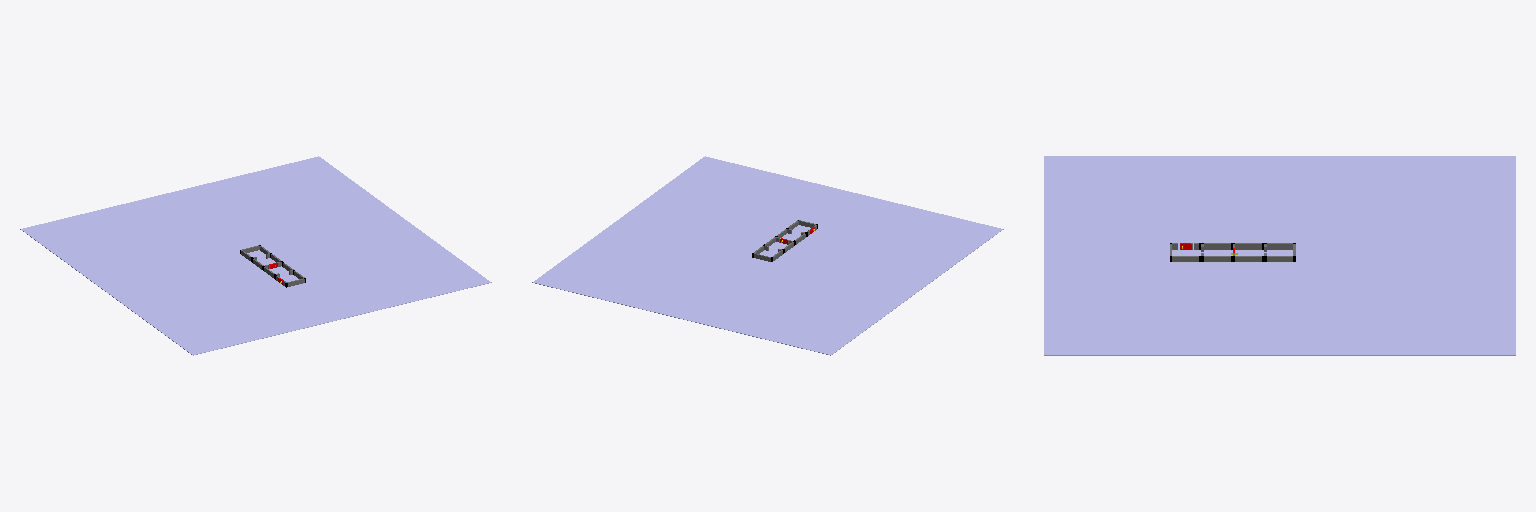
--- Facts derived from the render (not from the file) ---
3 views of the same robot in one strip: view 1: azimuth 30°, elevation 25°; view 2: azimuth 150°, elevation 25°; view 3: azimuth 270°, elevation 25° (orthographic).
Model rooms with 54 links and 53 joints (3 revolute, 4 prismatic, 46 fixed), rooted at base_link, posed all joints at 0.
Visible links, largest first — view 1: link_fixed_0_floor; view 2: link_fixed_0_floor; view 3: link_fixed_0_floor.
Boxes of the visible links, x1,y1,x2,y2 form: link_fixed_0_floor: [20, 156, 491, 355]; link_fixed_0_floor: [532, 156, 1003, 355]; link_fixed_0_floor: [1044, 156, 1515, 355].
Bounding box of the posed robot: 150 × 150 × 2.29 m (x, y, z).
Geometry: only primitive shapes (box / cylinder / sphere) drawn; not drawn: 3 mesh visuals (reference in a form the renderer does not follow).

robot.urdf — rooms:
<?xml version="1.0"?>
<!-- created with Phobos 1.0.1 "Capricious Choutengan" -->
  <robot name="rooms">

    <link name="base_link">
      <inertial>
        <origin xyz="0 0 0" rpy="0 0 0"/>
        <mass value="0.001"/>
        <inertia ixx="0.001" ixy="0" ixz="0" iyy="0.001" iyz="0" izz="0.001"/>
      </inertial>
    </link>

    <link name="goal">
      <inertial>
        <origin xyz="0 0 0" rpy="0 0 0"/>
        <mass value="0.001"/>
        <inertia ixx="0.001" ixy="0" ixz="0" iyy="0.001" iyz="0" izz="0.001"/>
      </inertial>
    </link>

    <link name="link_0_joint_0">
      <inertial>
        <origin xyz="0 0 0" rpy="0 0 0"/>
        <mass value="0.001"/>
        <inertia ixx="0.001" ixy="0" ixz="0" iyy="0.001" iyz="0" izz="0.001"/>
      </inertial>
      <visual name="visual_mesh_3_link_0">
        <origin xyz="0 0 0" rpy="0 0 0"/>
        <geometry>
          <mesh filename="file://[local-path]/ba/puzzle-generator/puzzles/rooms/meshes/stl/robot.stl" scale="1.0 1.0 1.0"/>
        </geometry>
        <material name="green"/>
      </visual>
      <collision name="collision_mesh_3_link_0">
        <origin xyz="0 0 0" rpy="0 0 0"/>
        <geometry>
          <mesh filename="file://[local-path]/ba/puzzle-generator/puzzles/rooms/meshes/stl/robot.001.stl" scale="1.0 1.0 1.0"/>
        </geometry>
      </collision>
    </link>

    <link name="link_0_joint_0.001">
      <inertial>
        <origin xyz="0 0 0" rpy="0 0 0"/>
        <mass value="0.001"/>
        <inertia ixx="0.001" ixy="0" ixz="0" iyy="0.001" iyz="0" izz="0.001"/>
      </inertial>
      <visual name="visual_mesh_3_link_0.001">
        <origin xyz="0 0 0" rpy="0 0 0"/>
        <geometry>
          <mesh filename="file://[local-path]/ba/puzzle-generator/puzzles/rooms/meshes/stl/robot.002.stl" scale="0.995 0.995 0.995"/>
        </geometry>
        <material name="green_translucent"/>
      </visual>
    </link>

    <link name="link_0_joint_1">
      <inertial>
        <origin xyz="0 0 0" rpy="0 0 0"/>
        <mass value="0.001"/>
        <inertia ixx="0.001" ixy="0" ixz="0" iyy="0.001" iyz="0" izz="0.001"/>
      </inertial>
    </link>

    <link name="link_0_joint_1.001">
      <inertial>
        <origin xyz="0 0 0" rpy="0 0 0"/>
        <mass value="0.001"/>
        <inertia ixx="0.001" ixy="0" ixz="0" iyy="0.001" iyz="0" izz="0.001"/>
      </inertial>
    </link>

    <link name="link_0_joint_2">
      <inertial>
        <origin xyz="0 0 0" rpy="0 0 0"/>
        <mass value="0.001"/>
        <inertia ixx="0.001" ixy="0" ixz="0" iyy="0.001" iyz="0" izz="0.001"/>
      </inertial>
    </link>

    <link name="link_1_joint_0">
      <inertial>
        <origin xyz="0 0 0" rpy="0 0 0"/>
        <mass value="0.001"/>
        <inertia ixx="0.001" ixy="0" ixz="0" iyy="0.001" iyz="0" izz="0.001"/>
      </inertial>
      <visual name="visual_cylinder_18_link_1">
        <origin xyz="0 0 0" rpy="0 0 0"/>
        <geometry>
          <cylinder radius="0.41" length="1.995"/>
        </geometry>
        <material name="gray"/>
      </visual>
      <collision name="collision_cylinder_18_link_1">
        <origin xyz="0 0 0" rpy="0 0 0"/>
        <geometry>
          <cylinder radius="0.41" length="1.995"/>
        </geometry>
      </collision>
    </link>

    <link name="link_2_joint_0">
      <inertial>
        <origin xyz="0 0 0" rpy="0 0 0"/>
        <mass value="0.001"/>
        <inertia ixx="0.001" ixy="0" ixz="0" iyy="0.001" iyz="0" izz="0.001"/>
      </inertial>
      <visual name="visual_cylinder_37_link_2">
        <origin xyz="0 0 0" rpy="0 0 0"/>
        <geometry>
          <cylinder radius="0.41" length="1.995"/>
        </geometry>
        <material name="gray"/>
      </visual>
      <collision name="collision_cylinder_37_link_2">
        <origin xyz="0 0 0" rpy="0 0 0"/>
        <geometry>
          <cylinder radius="0.41" length="1.995"/>
        </geometry>
      </collision>
    </link>

    <link name="link_3_joint_0">
      <inertial>
        <origin xyz="0 0 0" rpy="0 0 0"/>
        <mass value="0.001"/>
        <inertia ixx="0.001" ixy="0" ixz="0" iyy="0.001" iyz="0" izz="0.001"/>
      </inertial>
      <visual name="visual_mesh_44_link_3">
        <origin xyz="0 0 0" rpy="0 0 0"/>
        <geometry>
          <mesh filename="file://[local-path]/ba/puzzle-generator/puzzles/rooms/meshes/stl/door_obstacle.stl" scale="1.0 1.0 1.0"/>
        </geometry>
        <material name="brown"/>
      </visual>
      <collision name="collision_mesh_44_link_3">
        <origin xyz="0 0 0" rpy="0 0 0"/>
        <geometry>
          <mesh filename="file://[local-path]/ba/puzzle-generator/puzzles/rooms/meshes/stl/door_obstacle.001.stl" scale="1.0 1.0 1.0"/>
        </geometry>
      </collision>
    </link>

    <link name="link_3_joint_1">
      <inertial>
        <origin xyz="0 0 0" rpy="0 0 0"/>
        <mass value="0.001"/>
        <inertia ixx="0.001" ixy="0" ixz="0" iyy="0.001" iyz="0" izz="0.001"/>
      </inertial>
    </link>

    <link name="link_3_joint_2">
      <inertial>
        <origin xyz="0 0 0" rpy="0 0 0"/>
        <mass value="0.001"/>
        <inertia ixx="0.001" ixy="0" ixz="0" iyy="0.001" iyz="0" izz="0.001"/>
      </inertial>
    </link>

    <link name="link_fixed_0_floor">
      <inertial>
        <origin xyz="0 0 0" rpy="0 0 0"/>
        <mass value="0.001"/>
        <inertia ixx="0.001" ixy="0" ixz="0" iyy="0.001" iyz="0" izz="0.001"/>
      </inertial>
      <visual name="visual_box_fixed_0_floor">
        <origin xyz="0 0 0" rpy="0 0 0"/>
        <geometry>
          <box size="149.995 149.995 0.195"/>
        </geometry>
        <material name="lavender"/>
      </visual>
      <collision name="collision_box_fixed_0_floor">
        <origin xyz="0 0 0" rpy="0 0 0"/>
        <geometry>
          <box size="149.995 149.995 0.195"/>
        </geometry>
      </collision>
    </link>

    <link name="link_fixed_10_wall_(0.4625, 0.0)">
      <inertial>
        <origin xyz="0 0 0" rpy="0 0 0"/>
        <mass value="0.001"/>
        <inertia ixx="0.001" ixy="0" ixz="0" iyy="0.001" iyz="0" izz="0.001"/>
      </inertial>
      <visual name="visual_box_fixed_10_wall_(0.4625, 0.0)">
        <origin xyz="0 0 0" rpy="0 0 0"/>
        <geometry>
          <box size="0.745 8.495 1.995"/>
        </geometry>
        <material name="gray"/>
      </visual>
      <collision name="collision_box_fixed_10_wall_(0.4625, 0.0)">
        <origin xyz="0 0 0" rpy="0 0 0"/>
        <geometry>
          <box size="0.745 8.495 1.995"/>
        </geometry>
      </collision>
    </link>

    <link name="link_fixed_11_pillar_(-0.4625, 0.4625)">
      <inertial>
        <origin xyz="0 0 0" rpy="0 0 0"/>
        <mass value="0.001"/>
        <inertia ixx="0.001" ixy="0" ixz="0" iyy="0.001" iyz="0" izz="0.001"/>
      </inertial>
      <visual name="visual_box_fixed_11_pillar_(-0.4625, 0.4625)">
        <origin xyz="0 0 0" rpy="0 0 0"/>
        <geometry>
          <box size="0.745 0.745 1.995"/>
        </geometry>
        <material name="black"/>
      </visual>
      <collision name="collision_box_fixed_11_pillar_(-0.4625, 0.4625)">
        <origin xyz="0 0 0" rpy="0 0 0"/>
        <geometry>
          <box size="0.745 0.745 1.995"/>
        </geometry>
      </collision>
    </link>

    <link name="link_fixed_12_wall_(0.0, 0.4625)">
      <inertial>
        <origin xyz="0 0 0" rpy="0 0 0"/>
        <mass value="0.001"/>
        <inertia ixx="0.001" ixy="0" ixz="0" iyy="0.001" iyz="0" izz="0.001"/>
      </inertial>
      <visual name="visual_box_fixed_12_wall_(0.0, 0.4625)">
        <origin xyz="0 0 0" rpy="0 0 0"/>
        <geometry>
          <box size="8.495 0.745 1.995"/>
        </geometry>
        <material name="gray"/>
      </visual>
      <collision name="collision_box_fixed_12_wall_(0.0, 0.4625)">
        <origin xyz="0 0 0" rpy="0 0 0"/>
        <geometry>
          <box size="8.495 0.745 1.995"/>
        </geometry>
      </collision>
    </link>

    <link name="link_fixed_13_pillar_(-0.4625, -1.4625)">
      <inertial>
        <origin xyz="0 0 0" rpy="0 0 0"/>
        <mass value="0.001"/>
        <inertia ixx="0.001" ixy="0" ixz="0" iyy="0.001" iyz="0" izz="0.001"/>
      </inertial>
      <visual name="visual_box_fixed_13_pillar_(-0.4625, -1.4625)">
        <origin xyz="0 0 0" rpy="0 0 0"/>
        <geometry>
          <box size="0.745 0.745 1.995"/>
        </geometry>
        <material name="black"/>
      </visual>
      <collision name="collision_box_fixed_13_pillar_(-0.4625, -1.4625)">
        <origin xyz="0 0 0" rpy="0 0 0"/>
        <geometry>
          <box size="0.745 0.745 1.995"/>
        </geometry>
      </collision>
    </link>

    <link name="link_fixed_14_wall_(-0.4625, -1.0)">
      <inertial>
        <origin xyz="0 0 0" rpy="0 0 0"/>
        <mass value="0.001"/>
        <inertia ixx="0.001" ixy="0" ixz="0" iyy="0.001" iyz="0" izz="0.001"/>
      </inertial>
      <visual name="visual_box_fixed_14_wall_(-0.4625, -1.0)">
        <origin xyz="0 0 0" rpy="0 0 0"/>
        <geometry>
          <box size="0.745 8.495 1.995"/>
        </geometry>
        <material name="gray"/>
      </visual>
      <collision name="collision_box_fixed_14_wall_(-0.4625, -1.0)">
        <origin xyz="0 0 0" rpy="0 0 0"/>
        <geometry>
          <box size="0.745 8.495 1.995"/>
        </geometry>
      </collision>
    </link>

    <link name="link_fixed_15_pillar_(0.4625, -1.4625)">
      <inertial>
        <origin xyz="0 0 0" rpy="0 0 0"/>
        <mass value="0.001"/>
        <inertia ixx="0.001" ixy="0" ixz="0" iyy="0.001" iyz="0" izz="0.001"/>
      </inertial>
      <visual name="visual_box_fixed_15_pillar_(0.4625, -1.4625)">
        <origin xyz="0 0 0" rpy="0 0 0"/>
        <geometry>
          <box size="0.745 0.745 1.995"/>
        </geometry>
        <material name="black"/>
      </visual>
      <collision name="collision_box_fixed_15_pillar_(0.4625, -1.4625)">
        <origin xyz="0 0 0" rpy="0 0 0"/>
        <geometry>
          <box size="0.745 0.745 1.995"/>
        </geometry>
      </collision>
    </link>

    <link name="link_fixed_16_wall_(-0.3375, -1.4625)">
      <inertial>
        <origin xyz="0 0 0" rpy="0 0 0"/>
        <mass value="0.001"/>
        <inertia ixx="0.001" ixy="0" ixz="0" iyy="0.001" iyz="0" izz="0.001"/>
      </inertial>
      <visual name="visual_box_fixed_16_wall_(-0.3375, -1.4625)">
        <origin xyz="0 0 0" rpy="0 0 0"/>
        <geometry>
          <box size="1.745 0.745 1.995"/>
        </geometry>
        <material name="gray"/>
      </visual>
      <collision name="collision_box_fixed_16_wall_(-0.3375, -1.4625)">
        <origin xyz="0 0 0" rpy="0 0 0"/>
        <geometry>
          <box size="1.745 0.745 1.995"/>
        </geometry>
      </collision>
    </link>

    <link name="link_fixed_17_wall_(0.3375, -1.4625)">
      <inertial>
        <origin xyz="0 0 0" rpy="0 0 0"/>
        <mass value="0.001"/>
        <inertia ixx="0.001" ixy="0" ixz="0" iyy="0.001" iyz="0" izz="0.001"/>
      </inertial>
      <visual name="visual_box_fixed_17_wall_(0.3375, -1.4625)">
        <origin xyz="0 0 0" rpy="0 0 0"/>
        <geometry>
          <box size="1.745 0.745 1.995"/>
        </geometry>
        <material name="gray"/>
      </visual>
      <collision name="collision_box_fixed_17_wall_(0.3375, -1.4625)">
        <origin xyz="0 0 0" rpy="0 0 0"/>
        <geometry>
          <box size="1.745 0.745 1.995"/>
        </geometry>
      </collision>
    </link>

    <link name="link_fixed_19_hinge">
      <inertial>
        <origin xyz="0 0 0" rpy="0 0 0"/>
        <mass value="0.001"/>
        <inertia ixx="0.001" ixy="0" ixz="0" iyy="0.001" iyz="0" izz="0.001"/>
      </inertial>
      <visual name="visual_cylinder_fixed_19_hinge">
        <origin xyz="0 0 0" rpy="0 0 0"/>
        <geometry>
          <cylinder radius="0.10063" length="2.195"/>
        </geometry>
        <material name="gray"/>
      </visual>
    </link>

    <link name="link_fixed_20_door_panel">
      <inertial>
        <origin xyz="0 0 0" rpy="0 0 0"/>
        <mass value="0.001"/>
        <inertia ixx="0.001" ixy="0" ixz="0" iyy="0.001" iyz="0" izz="0.001"/>
      </inertial>
      <visual name="visual_box_fixed_20_door_panel">
        <origin xyz="0 0 0" rpy="0 0 0"/>
        <geometry>
          <box size="3.995 0.745 1.945"/>
        </geometry>
        <material name="red"/>
      </visual>
      <collision name="collision_box_fixed_20_door_panel">
        <origin xyz="0 0 0" rpy="0 0 0"/>
        <geometry>
          <box size="3.995 0.745 1.945"/>
        </geometry>
      </collision>
    </link>

    <link name="link_fixed_21_door_handle1">
      <inertial>
        <origin xyz="0 0 0" rpy="0 0 0"/>
        <mass value="0.001"/>
        <inertia ixx="0.001" ixy="0" ixz="0" iyy="0.001" iyz="0" izz="0.001"/>
      </inertial>
      <visual name="visual_box_fixed_21_door_handle1">
        <origin xyz="0 0 0" rpy="0 0 0"/>
        <geometry>
          <box size="0.1825 0.745 0.745"/>
        </geometry>
        <material name="yellow"/>
      </visual>
      <collision name="collision_box_fixed_21_door_handle1">
        <origin xyz="0 0 0" rpy="0 0 0"/>
        <geometry>
          <box size="0.1825 0.745 0.745"/>
        </geometry>
      </collision>
    </link>

    <link name="link_fixed_22_door_handle2">
      <inertial>
        <origin xyz="0 0 0" rpy="0 0 0"/>
        <mass value="0.001"/>
        <inertia ixx="0.001" ixy="0" ixz="0" iyy="0.001" iyz="0" izz="0.001"/>
      </inertial>
      <visual name="visual_box_fixed_22_door_handle2">
        <origin xyz="0 0 0" rpy="0 0 0"/>
        <geometry>
          <box size="0.1825 0.745 0.745"/>
        </geometry>
        <material name="yellow"/>
      </visual>
      <collision name="collision_box_fixed_22_door_handle2">
        <origin xyz="0 0 0" rpy="0 0 0"/>
        <geometry>
          <box size="0.1825 0.745 0.745"/>
        </geometry>
      </collision>
    </link>

    <link name="link_fixed_23_pillar_(0.4625, -0.5375)">
      <inertial>
        <origin xyz="0 0 0" rpy="0 0 0"/>
        <mass value="0.001"/>
        <inertia ixx="0.001" ixy="0" ixz="0" iyy="0.001" iyz="0" izz="0.001"/>
      </inertial>
      <visual name="visual_box_fixed_23_pillar_(0.4625, -0.5375)">
        <origin xyz="0 0 0" rpy="0 0 0"/>
        <geometry>
          <box size="0.745 0.745 1.995"/>
        </geometry>
        <material name="black"/>
      </visual>
      <collision name="collision_box_fixed_23_pillar_(0.4625, -0.5375)">
        <origin xyz="0 0 0" rpy="0 0 0"/>
        <geometry>
          <box size="0.745 0.745 1.995"/>
        </geometry>
      </collision>
    </link>

    <link name="link_fixed_24_wall_(0.4625, -1.0)">
      <inertial>
        <origin xyz="0 0 0" rpy="0 0 0"/>
        <mass value="0.001"/>
        <inertia ixx="0.001" ixy="0" ixz="0" iyy="0.001" iyz="0" izz="0.001"/>
      </inertial>
      <visual name="visual_box_fixed_24_wall_(0.4625, -1.0)">
        <origin xyz="0 0 0" rpy="0 0 0"/>
        <geometry>
          <box size="0.745 8.495 1.995"/>
        </geometry>
        <material name="gray"/>
      </visual>
      <collision name="collision_box_fixed_24_wall_(0.4625, -1.0)">
        <origin xyz="0 0 0" rpy="0 0 0"/>
        <geometry>
          <box size="0.745 8.495 1.995"/>
        </geometry>
      </collision>
    </link>

    <link name="link_fixed_25_pillar_(-0.4625, -0.5375)">
      <inertial>
        <origin xyz="0 0 0" rpy="0 0 0"/>
        <mass value="0.001"/>
        <inertia ixx="0.001" ixy="0" ixz="0" iyy="0.001" iyz="0" izz="0.001"/>
      </inertial>
      <visual name="visual_box_fixed_25_pillar_(-0.4625, -0.5375)">
        <origin xyz="0 0 0" rpy="0 0 0"/>
        <geometry>
          <box size="0.745 0.745 1.995"/>
        </geometry>
        <material name="black"/>
      </visual>
      <collision name="collision_box_fixed_25_pillar_(-0.4625, -0.5375)">
        <origin xyz="0 0 0" rpy="0 0 0"/>
        <geometry>
          <box size="0.745 0.745 1.995"/>
        </geometry>
      </collision>
    </link>

    <link name="link_fixed_26_pillar_(-0.4625, -2.4625)">
      <inertial>
        <origin xyz="0 0 0" rpy="0 0 0"/>
        <mass value="0.001"/>
        <inertia ixx="0.001" ixy="0" ixz="0" iyy="0.001" iyz="0" izz="0.001"/>
      </inertial>
      <visual name="visual_box_fixed_26_pillar_(-0.4625, -2.4625)">
        <origin xyz="0 0 0" rpy="0 0 0"/>
        <geometry>
          <box size="0.745 0.745 1.995"/>
        </geometry>
        <material name="black"/>
      </visual>
      <collision name="collision_box_fixed_26_pillar_(-0.4625, -2.4625)">
        <origin xyz="0 0 0" rpy="0 0 0"/>
        <geometry>
          <box size="0.745 0.745 1.995"/>
        </geometry>
      </collision>
    </link>

    <link name="link_fixed_27_wall_(-0.4625, -2.0)">
      <inertial>
        <origin xyz="0 0 0" rpy="0 0 0"/>
        <mass value="0.001"/>
        <inertia ixx="0.001" ixy="0" ixz="0" iyy="0.001" iyz="0" izz="0.001"/>
      </inertial>
      <visual name="visual_box_fixed_27_wall_(-0.4625, -2.0)">
        <origin xyz="0 0 0" rpy="0 0 0"/>
        <geometry>
          <box size="0.745 8.495 1.995"/>
        </geometry>
        <material name="gray"/>
      </visual>
      <collision name="collision_box_fixed_27_wall_(-0.4625, -2.0)">
        <origin xyz="0 0 0" rpy="0 0 0"/>
        <geometry>
          <box size="0.745 8.495 1.995"/>
        </geometry>
      </collision>
    </link>

    <link name="link_fixed_28_pillar_(0.4625, -2.4625)">
      <inertial>
        <origin xyz="0 0 0" rpy="0 0 0"/>
        <mass value="0.001"/>
        <inertia ixx="0.001" ixy="0" ixz="0" iyy="0.001" iyz="0" izz="0.001"/>
      </inertial>
      <visual name="visual_box_fixed_28_pillar_(0.4625, -2.4625)">
        <origin xyz="0 0 0" rpy="0 0 0"/>
        <geometry>
          <box size="0.745 0.745 1.995"/>
        </geometry>
        <material name="black"/>
      </visual>
      <collision name="collision_box_fixed_28_pillar_(0.4625, -2.4625)">
        <origin xyz="0 0 0" rpy="0 0 0"/>
        <geometry>
          <box size="0.745 0.745 1.995"/>
        </geometry>
      </collision>
    </link>

    <link name="link_fixed_29_wall_(-0.3375, -2.4625)">
      <inertial>
        <origin xyz="0 0 0" rpy="0 0 0"/>
        <mass value="0.001"/>
        <inertia ixx="0.001" ixy="0" ixz="0" iyy="0.001" iyz="0" izz="0.001"/>
      </inertial>
      <visual name="visual_box_fixed_29_wall_(-0.3375, -2.4625)">
        <origin xyz="0 0 0" rpy="0 0 0"/>
        <geometry>
          <box size="1.745 0.745 1.995"/>
        </geometry>
        <material name="gray"/>
      </visual>
      <collision name="collision_box_fixed_29_wall_(-0.3375, -2.4625)">
        <origin xyz="0 0 0" rpy="0 0 0"/>
        <geometry>
          <box size="1.745 0.745 1.995"/>
        </geometry>
      </collision>
    </link>

    <link name="link_fixed_30_wall_(0.3375, -2.4625)">
      <inertial>
        <origin xyz="0 0 0" rpy="0 0 0"/>
        <mass value="0.001"/>
        <inertia ixx="0.001" ixy="0" ixz="0" iyy="0.001" iyz="0" izz="0.001"/>
      </inertial>
      <visual name="visual_box_fixed_30_wall_(0.3375, -2.4625)">
        <origin xyz="0 0 0" rpy="0 0 0"/>
        <geometry>
          <box size="1.745 0.745 1.995"/>
        </geometry>
        <material name="gray"/>
      </visual>
      <collision name="collision_box_fixed_30_wall_(0.3375, -2.4625)">
        <origin xyz="0 0 0" rpy="0 0 0"/>
        <geometry>
          <box size="1.745 0.745 1.995"/>
        </geometry>
      </collision>
    </link>

    <link name="link_fixed_31_pillar_(0.4625, -1.5375)">
      <inertial>
        <origin xyz="0 0 0" rpy="0 0 0"/>
        <mass value="0.001"/>
        <inertia ixx="0.001" ixy="0" ixz="0" iyy="0.001" iyz="0" izz="0.001"/>
      </inertial>
      <visual name="visual_box_fixed_31_pillar_(0.4625, -1.5375)">
        <origin xyz="0 0 0" rpy="0 0 0"/>
        <geometry>
          <box size="0.745 0.745 1.995"/>
        </geometry>
        <material name="black"/>
      </visual>
      <collision name="collision_box_fixed_31_pillar_(0.4625, -1.5375)">
        <origin xyz="0 0 0" rpy="0 0 0"/>
        <geometry>
          <box size="0.745 0.745 1.995"/>
        </geometry>
      </collision>
    </link>

    <link name="link_fixed_32_wall_(0.4625, -2.0)">
      <inertial>
        <origin xyz="0 0 0" rpy="0 0 0"/>
        <mass value="0.001"/>
        <inertia ixx="0.001" ixy="0" ixz="0" iyy="0.001" iyz="0" izz="0.001"/>
      </inertial>
      <visual name="visual_box_fixed_32_wall_(0.4625, -2.0)">
        <origin xyz="0 0 0" rpy="0 0 0"/>
        <geometry>
          <box size="0.745 8.495 1.995"/>
        </geometry>
        <material name="gray"/>
      </visual>
      <collision name="collision_box_fixed_32_wall_(0.4625, -2.0)">
        <origin xyz="0 0 0" rpy="0 0 0"/>
        <geometry>
          <box size="0.745 8.495 1.995"/>
        </geometry>
      </collision>
    </link>

    <link name="link_fixed_33_pillar_(-0.4625, -1.5375)">
      <inertial>
        <origin xyz="0 0 0" rpy="0 0 0"/>
        <mass value="0.001"/>
        <inertia ixx="0.001" ixy="0" ixz="0" iyy="0.001" iyz="0" izz="0.001"/>
      </inertial>
      <visual name="visual_box_fixed_33_pillar_(-0.4625, -1.5375)">
        <origin xyz="0 0 0" rpy="0 0 0"/>
        <geometry>
          <box size="0.745 0.745 1.995"/>
        </geometry>
        <material name="black"/>
      </visual>
      <collision name="collision_box_fixed_33_pillar_(-0.4625, -1.5375)">
        <origin xyz="0 0 0" rpy="0 0 0"/>
        <geometry>
          <box size="0.745 0.745 1.995"/>
        </geometry>
      </collision>
    </link>

    <link name="link_fixed_34_pillar_(-0.4625, -3.4625)">
      <inertial>
        <origin xyz="0 0 0" rpy="0 0 0"/>
        <mass value="0.001"/>
        <inertia ixx="0.001" ixy="0" ixz="0" iyy="0.001" iyz="0" izz="0.001"/>
      </inertial>
      <visual name="visual_box_fixed_34_pillar_(-0.4625, -3.4625)">
        <origin xyz="0 0 0" rpy="0 0 0"/>
        <geometry>
          <box size="0.745 0.745 1.995"/>
        </geometry>
        <material name="black"/>
      </visual>
      <collision name="collision_box_fixed_34_pillar_(-0.4625, -3.4625)">
        <origin xyz="0 0 0" rpy="0 0 0"/>
        <geometry>
          <box size="0.745 0.745 1.995"/>
        </geometry>
      </collision>
    </link>

    <link name="link_fixed_35_wall_(-0.4625, -3.3375)">
      <inertial>
        <origin xyz="0 0 0" rpy="0 0 0"/>
        <mass value="0.001"/>
        <inertia ixx="0.001" ixy="0" ixz="0" iyy="0.001" iyz="0" izz="0.001"/>
      </inertial>
      <visual name="visual_box_fixed_35_wall_(-0.4625, -3.3375)">
        <origin xyz="0 0 0" rpy="0 0 0"/>
        <geometry>
          <box size="0.745 1.745 1.995"/>
        </geometry>
        <material name="gray"/>
      </visual>
      <collision name="collision_box_fixed_35_wall_(-0.4625, -3.3375)">
        <origin xyz="0 0 0" rpy="0 0 0"/>
        <geometry>
          <box size="0.745 1.745 1.995"/>
        </geometry>
      </collision>
    </link>

    <link name="link_fixed_36_wall_(-0.4625, -2.6625)">
      <inertial>
        <origin xyz="0 0 0" rpy="0 0 0"/>
        <mass value="0.001"/>
        <inertia ixx="0.001" ixy="0" ixz="0" iyy="0.001" iyz="0" izz="0.001"/>
      </inertial>
      <visual name="visual_box_fixed_36_wall_(-0.4625, -2.6625)">
        <origin xyz="0 0 0" rpy="0 0 0"/>
        <geometry>
          <box size="0.745 1.745 1.995"/>
        </geometry>
        <material name="gray"/>
      </visual>
      <collision name="collision_box_fixed_36_wall_(-0.4625, -2.6625)">
        <origin xyz="0 0 0" rpy="0 0 0"/>
        <geometry>
          <box size="0.745 1.745 1.995"/>
        </geometry>
      </collision>
    </link>

    <link name="link_fixed_38_hinge">
      <inertial>
        <origin xyz="0 0 0" rpy="0 0 0"/>
        <mass value="0.001"/>
        <inertia ixx="0.001" ixy="0" ixz="0" iyy="0.001" iyz="0" izz="0.001"/>
      </inertial>
      <visual name="visual_cylinder_fixed_38_hinge">
        <origin xyz="0 0 0" rpy="0 0 0"/>
        <geometry>
          <cylinder radius="0.10063" length="2.195"/>
        </geometry>
        <material name="gray"/>
      </visual>
    </link>

    <link name="link_fixed_39_door_panel">
      <inertial>
        <origin xyz="0 0 0" rpy="0 0 0"/>
        <mass value="0.001"/>
        <inertia ixx="0.001" ixy="0" ixz="0" iyy="0.001" iyz="0" izz="0.001"/>
      </inertial>
      <visual name="visual_box_fixed_39_door_panel">
        <origin xyz="0 0 0" rpy="0 0 0"/>
        <geometry>
          <box size="3.995 0.745 1.945"/>
        </geometry>
        <material name="red"/>
      </visual>
      <collision name="collision_box_fixed_39_door_panel">
        <origin xyz="0 0 0" rpy="0 0 0"/>
        <geometry>
          <box size="3.995 0.745 1.945"/>
        </geometry>
      </collision>
    </link>

    <link name="link_fixed_40_door_handle1">
      <inertial>
        <origin xyz="0 0 0" rpy="0 0 0"/>
        <mass value="0.001"/>
        <inertia ixx="0.001" ixy="0" ixz="0" iyy="0.001" iyz="0" izz="0.001"/>
      </inertial>
      <visual name="visual_box_fixed_40_door_handle1">
        <origin xyz="0 0 0" rpy="0 0 0"/>
        <geometry>
          <box size="0.1825 0.745 0.745"/>
        </geometry>
        <material name="yellow"/>
      </visual>
      <collision name="collision_box_fixed_40_door_handle1">
        <origin xyz="0 0 0" rpy="0 0 0"/>
        <geometry>
          <box size="0.1825 0.745 0.745"/>
        </geometry>
      </collision>
    </link>

    <link name="link_fixed_41_door_handle2">
      <inertial>
        <origin xyz="0 0 0" rpy="0 0 0"/>
        <mass value="0.001"/>
        <inertia ixx="0.001" ixy="0" ixz="0" iyy="0.001" iyz="0" izz="0.001"/>
      </inertial>
      <visual name="visual_box_fixed_41_door_handle2">
        <origin xyz="0 0 0" rpy="0 0 0"/>
        <geometry>
          <box size="0.1825 0.745 0.745"/>
        </geometry>
        <material name="yellow"/>
      </visual>
      <collision name="collision_box_fixed_41_door_handle2">
        <origin xyz="0 0 0" rpy="0 0 0"/>
        <geometry>
          <box size="0.1825 0.745 0.745"/>
        </geometry>
      </collision>
    </link>

    <link name="link_fixed_45_pillar_(0.4625, -3.4625)">
      <inertial>
        <origin xyz="0 0 0" rpy="0 0 0"/>
        <mass value="0.001"/>
        <inertia ixx="0.001" ixy="0" ixz="0" iyy="0.001" iyz="0" izz="0.001"/>
      </inertial>
      <visual name="visual_box_fixed_45_pillar_(0.4625, -3.4625)">
        <origin xyz="0 0 0" rpy="0 0 0"/>
        <geometry>
          <box size="0.745 0.745 1.995"/>
        </geometry>
        <material name="black"/>
      </visual>
      <collision name="collision_box_fixed_45_pillar_(0.4625, -3.4625)">
        <origin xyz="0 0 0" rpy="0 0 0"/>
        <geometry>
          <box size="0.745 0.745 1.995"/>
        </geometry>
      </collision>
    </link>

    <link name="link_fixed_46_wall_(0.0, -3.4625)">
      <inertial>
        <origin xyz="0 0 0" rpy="0 0 0"/>
        <mass value="0.001"/>
        <inertia ixx="0.001" ixy="0" ixz="0" iyy="0.001" iyz="0" izz="0.001"/>
      </inertial>
      <visual name="visual_box_fixed_46_wall_(0.0, -3.4625)">
        <origin xyz="0 0 0" rpy="0 0 0"/>
        <geometry>
          <box size="8.495 0.745 1.995"/>
        </geometry>
        <material name="gray"/>
      </visual>
      <collision name="collision_box_fixed_46_wall_(0.0, -3.4625)">
        <origin xyz="0 0 0" rpy="0 0 0"/>
        <geometry>
          <box size="8.495 0.745 1.995"/>
        </geometry>
      </collision>
    </link>

    <link name="link_fixed_47_pillar_(0.4625, -2.5375)">
      <inertial>
        <origin xyz="0 0 0" rpy="0 0 0"/>
        <mass value="0.001"/>
        <inertia ixx="0.001" ixy="0" ixz="0" iyy="0.001" iyz="0" izz="0.001"/>
      </inertial>
      <visual name="visual_box_fixed_47_pillar_(0.4625, -2.5375)">
        <origin xyz="0 0 0" rpy="0 0 0"/>
        <geometry>
          <box size="0.745 0.745 1.995"/>
        </geometry>
        <material name="black"/>
      </visual>
      <collision name="collision_box_fixed_47_pillar_(0.4625, -2.5375)">
        <origin xyz="0 0 0" rpy="0 0 0"/>
        <geometry>
          <box size="0.745 0.745 1.995"/>
        </geometry>
      </collision>
    </link>

    <link name="link_fixed_48_wall_(0.4625, -3.0)">
      <inertial>
        <origin xyz="0 0 0" rpy="0 0 0"/>
        <mass value="0.001"/>
        <inertia ixx="0.001" ixy="0" ixz="0" iyy="0.001" iyz="0" izz="0.001"/>
      </inertial>
      <visual name="visual_box_fixed_48_wall_(0.4625, -3.0)">
        <origin xyz="0 0 0" rpy="0 0 0"/>
        <geometry>
          <box size="0.745 8.495 1.995"/>
        </geometry>
        <material name="gray"/>
      </visual>
      <collision name="collision_box_fixed_48_wall_(0.4625, -3.0)">
        <origin xyz="0 0 0" rpy="0 0 0"/>
        <geometry>
          <box size="0.745 8.495 1.995"/>
        </geometry>
      </collision>
    </link>

    <link name="link_fixed_49_pillar_(-0.4625, -2.5375)">
      <inertial>
        <origin xyz="0 0 0" rpy="0 0 0"/>
        <mass value="0.001"/>
        <inertia ixx="0.001" ixy="0" ixz="0" iyy="0.001" iyz="0" izz="0.001"/>
      </inertial>
      <visual name="visual_box_fixed_49_pillar_(-0.4625, -2.5375)">
        <origin xyz="0 0 0" rpy="0 0 0"/>
        <geometry>
          <box size="0.745 0.745 1.995"/>
        </geometry>
        <material name="black"/>
      </visual>
      <collision name="collision_box_fixed_49_pillar_(-0.4625, -2.5375)">
        <origin xyz="0 0 0" rpy="0 0 0"/>
        <geometry>
          <box size="0.745 0.745 1.995"/>
        </geometry>
      </collision>
    </link>

    <link name="link_fixed_4_pillar_(-0.4625, -0.4625)">
      <inertial>
        <origin xyz="0 0 0" rpy="0 0 0"/>
        <mass value="0.001"/>
        <inertia ixx="0.001" ixy="0" ixz="0" iyy="0.001" iyz="0" izz="0.001"/>
      </inertial>
      <visual name="visual_box_fixed_4_pillar_(-0.4625, -0.4625)">
        <origin xyz="0 0 0" rpy="0 0 0"/>
        <geometry>
          <box size="0.745 0.745 1.995"/>
        </geometry>
        <material name="black"/>
      </visual>
      <collision name="collision_box_fixed_4_pillar_(-0.4625, -0.4625)">
        <origin xyz="0 0 0" rpy="0 0 0"/>
        <geometry>
          <box size="0.745 0.745 1.995"/>
        </geometry>
      </collision>
    </link>

    <link name="link_fixed_5_wall_(-0.4625, 0.0)">
      <inertial>
        <origin xyz="0 0 0" rpy="0 0 0"/>
        <mass value="0.001"/>
        <inertia ixx="0.001" ixy="0" ixz="0" iyy="0.001" iyz="0" izz="0.001"/>
      </inertial>
      <visual name="visual_box_fixed_5_wall_(-0.4625, 0.0)">
        <origin xyz="0 0 0" rpy="0 0 0"/>
        <geometry>
          <box size="0.745 8.495 1.995"/>
        </geometry>
        <material name="gray"/>
      </visual>
      <collision name="collision_box_fixed_5_wall_(-0.4625, 0.0)">
        <origin xyz="0 0 0" rpy="0 0 0"/>
        <geometry>
          <box size="0.745 8.495 1.995"/>
        </geometry>
      </collision>
    </link>

    <link name="link_fixed_6_pillar_(0.4625, -0.4625)">
      <inertial>
        <origin xyz="0 0 0" rpy="0 0 0"/>
        <mass value="0.001"/>
        <inertia ixx="0.001" ixy="0" ixz="0" iyy="0.001" iyz="0" izz="0.001"/>
      </inertial>
      <visual name="visual_box_fixed_6_pillar_(0.4625, -0.4625)">
        <origin xyz="0 0 0" rpy="0 0 0"/>
        <geometry>
          <box size="0.745 0.745 1.995"/>
        </geometry>
        <material name="black"/>
      </visual>
      <collision name="collision_box_fixed_6_pillar_(0.4625, -0.4625)">
        <origin xyz="0 0 0" rpy="0 0 0"/>
        <geometry>
          <box size="0.745 0.745 1.995"/>
        </geometry>
      </collision>
    </link>

    <link name="link_fixed_7_wall_(-0.3375, -0.4625)">
      <inertial>
        <origin xyz="0 0 0" rpy="0 0 0"/>
        <mass value="0.001"/>
        <inertia ixx="0.001" ixy="0" ixz="0" iyy="0.001" iyz="0" izz="0.001"/>
      </inertial>
      <visual name="visual_box_fixed_7_wall_(-0.3375, -0.4625)">
        <origin xyz="0 0 0" rpy="0 0 0"/>
        <geometry>
          <box size="1.745 0.745 1.995"/>
        </geometry>
        <material name="gray"/>
      </visual>
      <collision name="collision_box_fixed_7_wall_(-0.3375, -0.4625)">
        <origin xyz="0 0 0" rpy="0 0 0"/>
        <geometry>
          <box size="1.745 0.745 1.995"/>
        </geometry>
      </collision>
    </link>

    <link name="link_fixed_8_wall_(0.3375, -0.4625)">
      <inertial>
        <origin xyz="0 0 0" rpy="0 0 0"/>
        <mass value="0.001"/>
        <inertia ixx="0.001" ixy="0" ixz="0" iyy="0.001" iyz="0" izz="0.001"/>
      </inertial>
      <visual name="visual_box_fixed_8_wall_(0.3375, -0.4625)">
        <origin xyz="0 0 0" rpy="0 0 0"/>
        <geometry>
          <box size="1.745 0.745 1.995"/>
        </geometry>
        <material name="gray"/>
      </visual>
      <collision name="collision_box_fixed_8_wall_(0.3375, -0.4625)">
        <origin xyz="0 0 0" rpy="0 0 0"/>
        <geometry>
          <box size="1.745 0.745 1.995"/>
        </geometry>
      </collision>
    </link>

    <link name="link_fixed_9_pillar_(0.4625, 0.4625)">
      <inertial>
        <origin xyz="0 0 0" rpy="0 0 0"/>
        <mass value="0.001"/>
        <inertia ixx="0.001" ixy="0" ixz="0" iyy="0.001" iyz="0" izz="0.001"/>
      </inertial>
      <visual name="visual_box_fixed_9_pillar_(0.4625, 0.4625)">
        <origin xyz="0 0 0" rpy="0 0 0"/>
        <geometry>
          <box size="0.745 0.745 1.995"/>
        </geometry>
        <material name="black"/>
      </visual>
      <collision name="collision_box_fixed_9_pillar_(0.4625, 0.4625)">
        <origin xyz="0 0 0" rpy="0 0 0"/>
        <geometry>
          <box size="0.745 0.745 1.995"/>
        </geometry>
      </collision>
    </link>

    <joint name="goal" type="fixed">
      <origin xyz="-10.0 -30.0 0.625" rpy="0 0 0"/>
      <parent link="base_link"/>
      <child link="goal"/>
      <limit effort="0" velocity="0"/>
    </joint>

    <joint name="link_0_joint_0" type="fixed">
      <origin xyz="0 0 0" rpy="0 0 0"/>
      <parent link="link_0_joint_1"/>
      <child link="link_0_joint_0"/>
      <limit effort="0" velocity="0"/>
    </joint>

    <joint name="link_0_joint_0.001" type="fixed">
      <origin xyz="0 0 0" rpy="0 0 0"/>
      <parent link="link_0_joint_1.001"/>
      <child link="link_0_joint_0.001"/>
      <limit effort="0" velocity="0"/>
    </joint>

    <joint name="link_0_joint_1" type="prismatic">
      <origin xyz="0 0 0" rpy="0 0 0"/>
      <parent link="link_0_joint_2"/>
      <child link="link_0_joint_1"/>
      <axis xyz="0 1.0 0"/>
      <limit lower="-35.0" upper="5.0" effort="0" velocity="0"/>
    </joint>

    <joint name="link_0_joint_1.001" type="fixed">
      <origin xyz="0 0 0" rpy="0 0 0"/>
      <parent link="goal"/>
      <child link="link_0_joint_1.001"/>
      <limit effort="0" velocity="0"/>
    </joint>

    <joint name="link_0_joint_2" type="prismatic">
      <origin xyz="0 0 0.625" rpy="0 0 0"/>
      <parent link="base_link"/>
      <child link="link_0_joint_2"/>
      <axis xyz="1.0 0 0"/>
      <limit lower="-15.0" upper="5.0" effort="0" velocity="0"/>
    </joint>

    <joint name="link_1_joint_0" type="revolute">
      <origin xyz="-2.0 -14.625 1.0" rpy="0 0 0"/>
      <parent link="base_link"/>
      <child link="link_1_joint_0"/>
      <axis xyz="0 0 1.0"/>
      <limit lower="0" upper="1.5708" effort="0" velocity="0"/>
    </joint>

    <joint name="link_2_joint_0" type="revolute">
      <origin xyz="-4.625 -28.0 1.0" rpy="0 0 -1.5708"/>
      <parent link="base_link"/>
      <child link="link_2_joint_0"/>
      <axis xyz="0 0 1.0"/>
      <limit lower="0" upper="1.5708" effort="0" velocity="0"/>
    </joint>

    <joint name="link_3_joint_0" type="revolute">
      <origin xyz="0 0 0" rpy="0 0 1.5708"/>
      <parent link="link_3_joint_1"/>
      <child link="link_3_joint_0"/>
      <axis xyz="0 0 1.0"/>
      <limit lower="-3.14159" upper="3.14159" effort="0" velocity="0"/>
    </joint>

    <joint name="link_3_joint_1" type="prismatic">
      <origin xyz="0 0 0" rpy="0 0 0"/>
      <parent link="link_3_joint_2"/>
      <child link="link_3_joint_1"/>
      <axis xyz="0 1.0 0"/>
      <limit lower="-10.0" upper="10.0" effort="0" velocity="0"/>
    </joint>

    <joint name="link_3_joint_2" type="prismatic">
      <origin xyz="-2.5 -30.0 0.75" rpy="0 0 0"/>
      <parent link="base_link"/>
      <child link="link_3_joint_2"/>
      <axis xyz="1.0 0 0"/>
      <limit lower="-10.0" upper="10.0" effort="0" velocity="0"/>
    </joint>

    <joint name="link_fixed_0_floor" type="fixed">
      <origin xyz="0 0 -0.1" rpy="0 0 0"/>
      <parent link="base_link"/>
      <child link="link_fixed_0_floor"/>
    </joint>

    <joint name="link_fixed_10_wall_(0.4625, 0.0)" type="fixed">
      <origin xyz="4.625 0 1.0" rpy="0 0 0"/>
      <parent link="base_link"/>
      <child link="link_fixed_10_wall_(0.4625, 0.0)"/>
    </joint>

    <joint name="link_fixed_11_pillar_(-0.4625, 0.4625)" type="fixed">
      <origin xyz="-4.625 4.625 1.0" rpy="0 0 0"/>
      <parent link="base_link"/>
      <child link="link_fixed_11_pillar_(-0.4625, 0.4625)"/>
    </joint>

    <joint name="link_fixed_12_wall_(0.0, 0.4625)" type="fixed">
      <origin xyz="0 4.625 1.0" rpy="0 0 0"/>
      <parent link="base_link"/>
      <child link="link_fixed_12_wall_(0.0, 0.4625)"/>
    </joint>

    <joint name="link_fixed_13_pillar_(-0.4625, -1.4625)" type="fixed">
      <origin xyz="-4.625 -14.625 1.0" rpy="0 0 0"/>
      <parent link="base_link"/>
      <child link="link_fixed_13_pillar_(-0.4625, -1.4625)"/>
    </joint>

    <joint name="link_fixed_14_wall_(-0.4625, -1.0)" type="fixed">
      <origin xyz="-4.625 -10.0 1.0" rpy="0 0 0"/>
      <parent link="base_link"/>
      <child link="link_fixed_14_wall_(-0.4625, -1.0)"/>
    </joint>

    <joint name="link_fixed_15_pillar_(0.4625, -1.4625)" type="fixed">
      <origin xyz="4.625 -14.625 1.0" rpy="0 0 0"/>
      <parent link="base_link"/>
      <child link="link_fixed_15_pillar_(0.4625, -1.4625)"/>
    </joint>

    <joint name="link_fixed_16_wall_(-0.3375, -1.4625)" type="fixed">
      <origin xyz="-3.375 -14.625 1.0" rpy="0 0 0"/>
      <parent link="base_link"/>
      <child link="link_fixed_16_wall_(-0.3375, -1.4625)"/>
    </joint>

    <joint name="link_fixed_17_wall_(0.3375, -1.4625)" type="fixed">
      <origin xyz="3.375 -14.625 1.0" rpy="0 0 0"/>
      <parent link="base_link"/>
      <child link="link_fixed_17_wall_(0.3375, -1.4625)"/>
    </joint>

    <joint name="link_fixed_19_hinge" type="fixed">
      <origin xyz="0 0 0" rpy="0 0 0"/>
      <parent link="link_1_joint_0"/>
      <child link="link_fixed_19_hinge"/>
    </joint>

    <joint name="link_fixed_20_door_panel" type="fixed">
      <origin xyz="2.0 0 0" rpy="0 0 0"/>
      <parent link="link_1_joint_0"/>
      <child link="link_fixed_20_door_panel"/>
    </joint>

    <joint name="link_fixed_21_door_handle1" type="fixed">
      <origin xyz="3.0 0.75 0" rpy="0 0 0"/>
      <parent link="link_1_joint_0"/>
      <child link="link_fixed_21_door_handle1"/>
    </joint>

    <joint name="link_fixed_22_door_handle2" type="fixed">
      <origin xyz="3.0 -0.75 0" rpy="0 0 0"/>
      <parent link="link_1_joint_0"/>
      <child link="link_fixed_22_door_handle2"/>
    </joint>

    <joint name="link_fixed_23_pillar_(0.4625, -0.5375)" type="fixed">
      <origin xyz="4.625 -5.375 1.0" rpy="0 0 0"/>
      <parent link="base_link"/>
      <child link="link_fixed_23_pillar_(0.4625, -0.5375)"/>
    </joint>

    <joint name="link_fixed_24_wall_(0.4625, -1.0)" type="fixed">
      <origin xyz="4.625 -10.0 1.0" rpy="0 0 0"/>
      <parent link="base_link"/>
      <child link="link_fixed_24_wall_(0.4625, -1.0)"/>
    </joint>

    <joint name="link_fixed_25_pillar_(-0.4625, -0.5375)" type="fixed">
      <origin xyz="-4.625 -5.375 1.0" rpy="0 0 0"/>
      <parent link="base_link"/>
      <child link="link_fixed_25_pillar_(-0.4625, -0.5375)"/>
    </joint>

    <joint name="link_fixed_26_pillar_(-0.4625, -2.4625)" type="fixed">
      <origin xyz="-4.625 -24.625 1.0" rpy="0 0 0"/>
      <parent link="base_link"/>
      <child link="link_fixed_26_pillar_(-0.4625, -2.4625)"/>
    </joint>

    <joint name="link_fixed_27_wall_(-0.4625, -2.0)" type="fixed">
      <origin xyz="-4.625 -20.0 1.0" rpy="0 0 0"/>
      <parent link="base_link"/>
      <child link="link_fixed_27_wall_(-0.4625, -2.0)"/>
    </joint>

    <joint name="link_fixed_28_pillar_(0.4625, -2.4625)" type="fixed">
      <origin xyz="4.625 -24.625 1.0" rpy="0 0 0"/>
      <parent link="base_link"/>
      <child link="link_fixed_28_pillar_(0.4625, -2.4625)"/>
    </joint>

    <joint name="link_fixed_29_wall_(-0.3375, -2.4625)" type="fixed">
      <origin xyz="-3.375 -24.625 1.0" rpy="0 0 0"/>
      <parent link="base_link"/>
      <child link="link_fixed_29_wall_(-0.3375, -2.4625)"/>
    </joint>

    <joint name="link_fixed_30_wall_(0.3375, -2.4625)" type="fixed">
      <origin xyz="3.375 -24.625 1.0" rpy="0 0 0"/>
      <parent link="base_link"/>
      <child link="link_fixed_30_wall_(0.3375, -2.4625)"/>
    </joint>

    <joint name="link_fixed_31_pillar_(0.4625, -1.5375)" type="fixed">
      <origin xyz="4.625 -15.375 1.0" rpy="0 0 0"/>
      <parent link="base_link"/>
      <child link="link_fixed_31_pillar_(0.4625, -1.5375)"/>
    </joint>

    <joint name="link_fixed_32_wall_(0.4625, -2.0)" type="fixed">
      <origin xyz="4.625 -20.0 1.0" rpy="0 0 0"/>
      <parent link="base_link"/>
      <child link="link_fixed_32_wall_(0.4625, -2.0)"/>
    </joint>

    <joint name="link_fixed_33_pillar_(-0.4625, -1.5375)" type="fixed">
      <origin xyz="-4.625 -15.375 1.0" rpy="0 0 0"/>
      <parent link="base_link"/>
      <child link="link_fixed_33_pillar_(-0.4625, -1.5375)"/>
    </joint>

    <joint name="link_fixed_34_pillar_(-0.4625, -3.4625)" type="fixed">
      <origin xyz="-4.625 -34.625 1.0" rpy="0 0 0"/>
      <parent link="base_link"/>
      <child link="link_fixed_34_pillar_(-0.4625, -3.4625)"/>
    </joint>

    <joint name="link_fixed_35_wall_(-0.4625, -3.3375)" type="fixed">
      <origin xyz="-4.625 -33.375 1.0" rpy="0 0 0"/>
      <parent link="base_link"/>
      <child link="link_fixed_35_wall_(-0.4625, -3.3375)"/>
    </joint>

    <joint name="link_fixed_36_wall_(-0.4625, -2.6625)" type="fixed">
      <origin xyz="-4.625 -26.625 1.0" rpy="0 0 0"/>
      <parent link="base_link"/>
      <child link="link_fixed_36_wall_(-0.4625, -2.6625)"/>
    </joint>

    <joint name="link_fixed_38_hinge" type="fixed">
      <origin xyz="0 0 0" rpy="0 0 0"/>
      <parent link="link_2_joint_0"/>
      <child link="link_fixed_38_hinge"/>
    </joint>

    <joint name="link_fixed_39_door_panel" type="fixed">
      <origin xyz="2.0 0 0" rpy="0 0 0"/>
      <parent link="link_2_joint_0"/>
      <child link="link_fixed_39_door_panel"/>
    </joint>

    <joint name="link_fixed_40_door_handle1" type="fixed">
      <origin xyz="3.0 0.75 0" rpy="0 0 0"/>
      <parent link="link_2_joint_0"/>
      <child link="link_fixed_40_door_handle1"/>
    </joint>

    <joint name="link_fixed_41_door_handle2" type="fixed">
      <origin xyz="3.0 -0.75 0" rpy="0 0 0"/>
      <parent link="link_2_joint_0"/>
      <child link="link_fixed_41_door_handle2"/>
    </joint>

    <joint name="link_fixed_45_pillar_(0.4625, -3.4625)" type="fixed">
      <origin xyz="4.625 -34.625 1.0" rpy="0 0 0"/>
      <parent link="base_link"/>
      <child link="link_fixed_45_pillar_(0.4625, -3.4625)"/>
    </joint>

    <joint name="link_fixed_46_wall_(0.0, -3.4625)" type="fixed">
      <origin xyz="0 -34.625 1.0" rpy="0 0 0"/>
      <parent link="base_link"/>
      <child link="link_fixed_46_wall_(0.0, -3.4625)"/>
    </joint>

    <joint name="link_fixed_47_pillar_(0.4625, -2.5375)" type="fixed">
      <origin xyz="4.625 -25.375 1.0" rpy="0 0 0"/>
      <parent link="base_link"/>
      <child link="link_fixed_47_pillar_(0.4625, -2.5375)"/>
    </joint>

    <joint name="link_fixed_48_wall_(0.4625, -3.0)" type="fixed">
      <origin xyz="4.625 -30.0 1.0" rpy="0 0 0"/>
      <parent link="base_link"/>
      <child link="link_fixed_48_wall_(0.4625, -3.0)"/>
    </joint>

    <joint name="link_fixed_49_pillar_(-0.4625, -2.5375)" type="fixed">
      <origin xyz="-4.625 -25.375 1.0" rpy="0 0 0"/>
      <parent link="base_link"/>
      <child link="link_fixed_49_pillar_(-0.4625, -2.5375)"/>
    </joint>

    <joint name="link_fixed_4_pillar_(-0.4625, -0.4625)" type="fixed">
      <origin xyz="-4.625 -4.625 1.0" rpy="0 0 0"/>
      <parent link="base_link"/>
      <child link="link_fixed_4_pillar_(-0.4625, -0.4625)"/>
    </joint>

    <joint name="link_fixed_5_wall_(-0.4625, 0.0)" type="fixed">
      <origin xyz="-4.625 0 1.0" rpy="0 0 0"/>
      <parent link="base_link"/>
      <child link="link_fixed_5_wall_(-0.4625, 0.0)"/>
    </joint>

    <joint name="link_fixed_6_pillar_(0.4625, -0.4625)" type="fixed">
      <origin xyz="4.625 -4.625 1.0" rpy="0 0 0"/>
      <parent link="base_link"/>
      <child link="link_fixed_6_pillar_(0.4625, -0.4625)"/>
    </joint>

    <joint name="link_fixed_7_wall_(-0.3375, -0.4625)" type="fixed">
      <origin xyz="-3.375 -4.625 1.0" rpy="0 0 0"/>
      <parent link="base_link"/>
      <child link="link_fixed_7_wall_(-0.3375, -0.4625)"/>
    </joint>

    <joint name="link_fixed_8_wall_(0.3375, -0.4625)" type="fixed">
      <origin xyz="3.375 -4.625 1.0" rpy="0 0 0"/>
      <parent link="base_link"/>
      <child link="link_fixed_8_wall_(0.3375, -0.4625)"/>
    </joint>

    <joint name="link_fixed_9_pillar_(0.4625, 0.4625)" type="fixed">
      <origin xyz="4.625 4.625 1.0" rpy="0 0 0"/>
      <parent link="base_link"/>
      <child link="link_fixed_9_pillar_(0.4625, 0.4625)"/>
    </joint>

    <material name="black">
      <color rgba="0 0 0 1.0"/>
    </material>

    <material name="brown">
      <color rgba="0.38 0.2 0.07 1.0"/>
    </material>

    <material name="gray">
      <color rgba="0.5 0.5 0.5 1.0"/>
    </material>

    <material name="green">
      <color rgba="0 1.0 0 1.0"/>
    </material>

    <material name="green_translucent">
      <color rgba="0 1.0 0 0.25"/>
    </material>

    <material name="lavender">
      <color rgba="0.8 0.8 1.0 1.0"/>
    </material>

    <material name="red">
      <color rgba="1.0 0 0 1.0"/>
    </material>

    <material name="yellow">
      <color rgba="1.0 1.0 0 1.0"/>
    </material>

  </robot>
